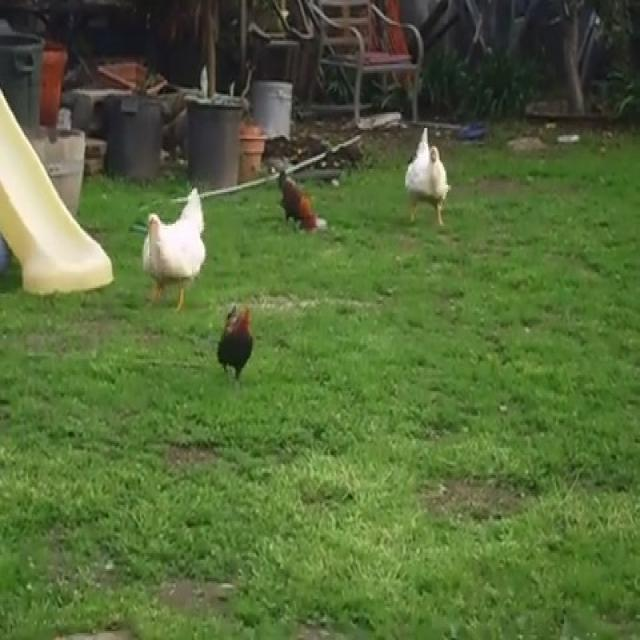feeding: (272, 160, 330, 243)
running: (138, 180, 208, 317), (404, 120, 453, 229), (217, 298, 263, 379)
